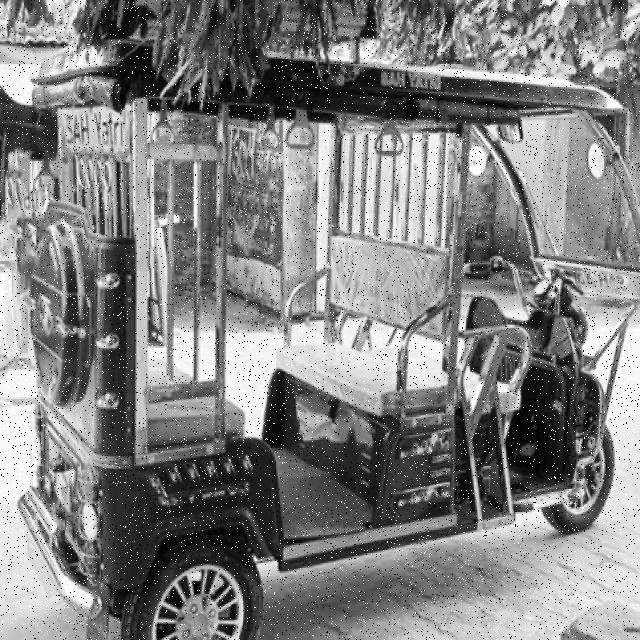Toto: (33, 37, 637, 640)
